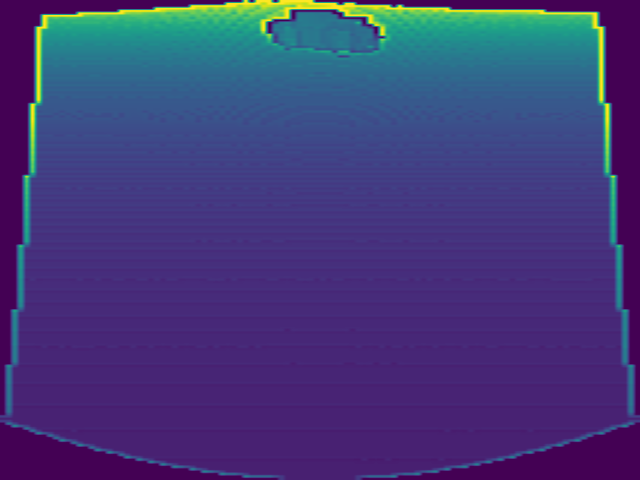car_0027: (261, 4, 384, 59)
